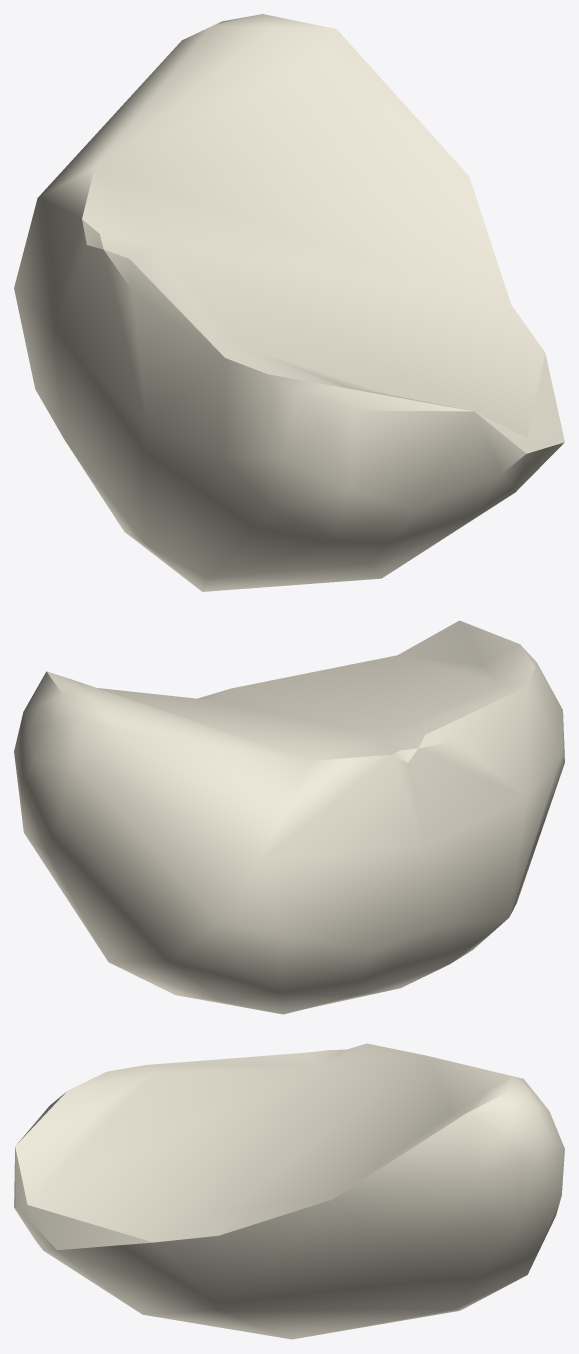
File: fma45097_fj1232.glb
The picture shows the model from 3 angles, top to bottom: view 1: azimuth 30°, elevation 25°; view 2: azimuth 150°, elevation 25°; view 3: azimuth 270°, elevation 25°; orthographic projection. The views are drawn at different scales.
Visible parts, largest first — view 1: FMA45097_FJ1232; view 2: FMA45097_FJ1232; view 3: FMA45097_FJ1232.
Part boxes in pixels (x1,y1,x2,y2): FMA45097_FJ1232: (14,14,564,591); FMA45097_FJ1232: (14,620,564,1014); FMA45097_FJ1232: (14,1043,564,1339).
Bounding box in the file's own units: 0.00823 × 0.00754 × 0.0128.
